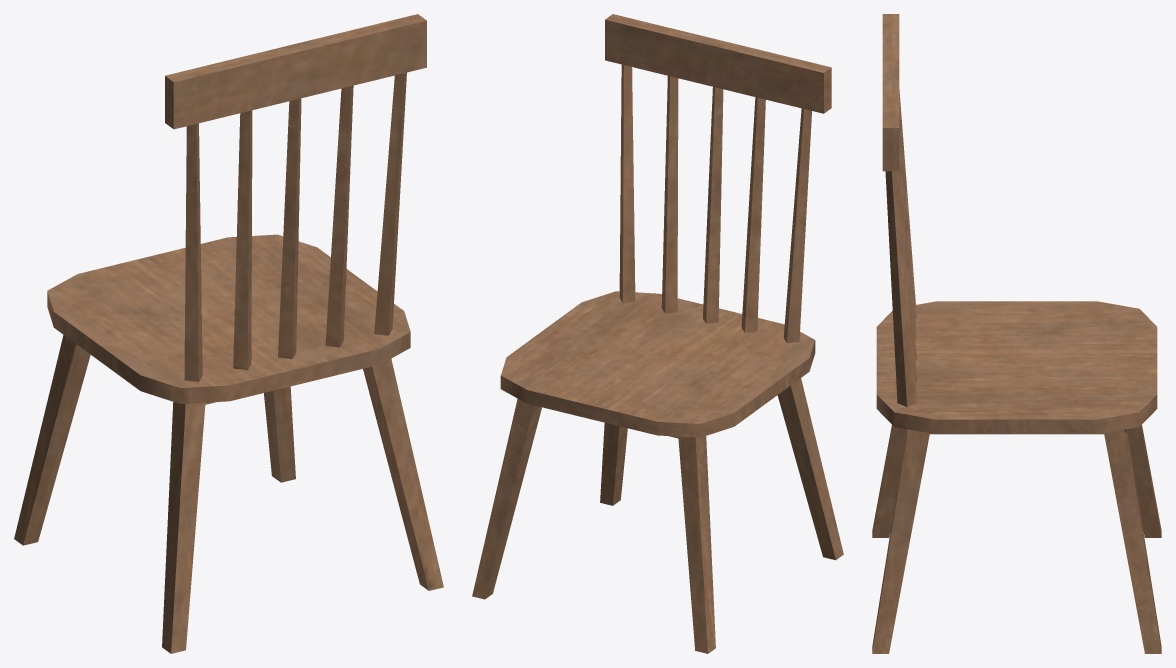
Rendered from Chair_04-col.glb.
3 views of the same model, side by side, from view 1: azimuth 30°, elevation 25°; view 2: azimuth 150°, elevation 25°; view 3: azimuth 270°, elevation 25° (orthographic). The views are drawn at different scales.
Parts seen in each view (by area): view 1: Chair_04-col; view 2: Chair_04-col; view 3: Chair_04-col.
Boxes of the visible parts, x1,y1,x2,y2 form: Chair_04-col: (14, 14, 443, 653); Chair_04-col: (472, 14, 843, 653); Chair_04-col: (872, 14, 1161, 653).
Bounding box in the file's own units: 0.5524 × 1.09 × 0.5509.
Materials: 1 (1 with a texture image).
